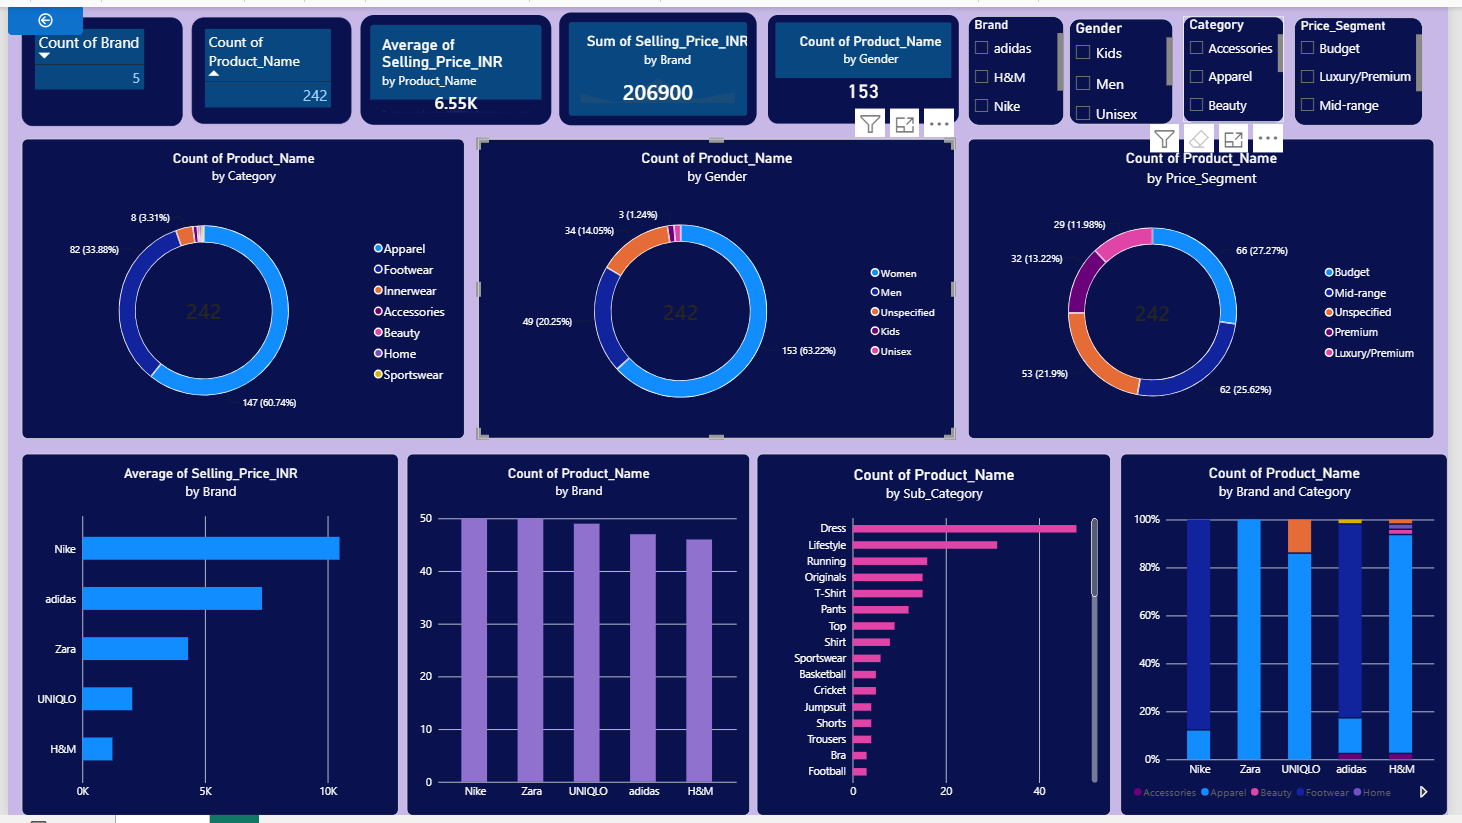

This screenshot's page, from the dashboard's own definition file:
{"tool":"powerbi","page":{"name":"Page 1","canvas":[1920,1080],"ordinal":0},"visuals":[{"type":"tableEx","fields":{"Values":["Week3_Clean_Product_Data_Final.Product_Name"]},"box":[245,16.2,212.8,141.3],"z":0},{"type":"tableEx","fields":{"Values":["Week3_Clean_Product_Data_Final.Brand"]},"box":[18,16.2,214.5,144.8],"z":1000},{"type":"kpi","fields":{"Indicator":["Avg(Week3_Clean_Product_Data_Final.Selling_Price_INR)"],"TrendLine":["Week3_Clean_Product_Data_Final.Product_Name"]},"box":[469.2,14,254.7,146.5],"z":2000},{"type":"actionButton","box":[0,0,100,40],"z":4000},{"type":"kpi","fields":{"Indicator":["CountNonNull(Week3_Clean_Product_Data_Final.Product_Name)"],"TrendLine":["Week3_Clean_Product_Data_Final.Gender"]},"box":[1013.4,14,254.7,144.8],"z":5000},{"type":"clusteredColumnChart","fields":{"Category":["Week3_Clean_Product_Data_Final.Brand"],"Y":["CountNonNull(Week3_Clean_Product_Data_Final.Product_Name)"]},"box":[531.3,598,457.5,482.7],"z":6000},{"type":"donutChart","fields":{"Category":["Week3_Clean_Product_Data_Final.Category"],"Y":["CountNonNull(Week3_Clean_Product_Data_Final.Product_Name)"]},"box":[18,178.3,590.8,399.8],"z":7000},{"type":"donutChart","fields":{"Category":["Week3_Clean_Product_Data_Final.Gender"],"Y":["CountNonNull(Week3_Clean_Product_Data_Final.Product_Name)"]},"box":[626.8,178.3,635.8,399.8],"z":8000},{"type":"clusteredBarChart","fields":{"Category":["Week3_Clean_Product_Data_Final.Brand"],"Y":["Avg(Week3_Clean_Product_Data_Final.Selling_Price_INR)"]},"box":[18,598,502.5,482.7],"z":9000},{"type":"donutChart","fields":{"Category":["Week3_Clean_Product_Data_Final.Price_Segment"],"Y":["CountNonNull(Week3_Clean_Product_Data_Final.Product_Name)"]},"box":[1280.6,178.3,621.4,399.8],"z":10000},{"type":"clusteredBarChart","fields":{"Category":["Week3_Clean_Product_Data_Final.Sub_Category"],"Y":["CountNonNull(Week3_Clean_Product_Data_Final.Product_Name)"]},"box":[997.8,598,471.9,482.7],"z":11000},{"type":"hundredPercentStackedColumnChart","fields":{"Category":["Week3_Clean_Product_Data_Final.Brand"],"Series":["Week3_Clean_Product_Data_Final.Category"],"Y":["CountNonNull(Week3_Clean_Product_Data_Final.Product_Name)"]},"box":[1484.1,598,435.9,482.7],"z":12000},{"type":"slicer","fields":{"Values":["Week3_Clean_Product_Data_Final.Brand"]},"box":[1280.6,14.4,127.9,145.9],"z":13000},{"type":"slicer","fields":{"Values":["Week3_Clean_Product_Data_Final.Gender"]},"box":[1415.7,18,138.7,140.5],"z":14000},{"type":"slicer","fields":{"Values":["Week3_Clean_Product_Data_Final.Category"]},"box":[1567,14.4,135.1,142.3],"z":14001},{"type":"slicer","fields":{"Values":["Week3_Clean_Product_Data_Final.Price_Segment"]},"box":[1714.7,16.2,171.1,144.1],"z":14002},{"type":"kpi","fields":{"Indicator":["Sum(Week3_Clean_Product_Data_Final.Selling_Price_INR)"],"TrendLine":["Week3_Clean_Product_Data_Final.Brand"]},"box":[734.3,10.5,263.4,150],"z":14003}]}

Visuals, with their boxes in screenshot pixels (x1, y1, x2, y2), scaled from the page's 1920x1080 canvas onto the 1462x823 screenshot:
tableEx - Week3_Clean_Product_Data_Final.Product_Name: 187/12/349/120
tableEx - Week3_Clean_Product_Data_Final.Brand: 14/12/177/123
kpi - Avg(Week3_Clean_Product_Data_Final.Selling_Price_INR) x Week3_Clean_Product_Data_Final.Product_Name: 357/11/551/122
actionButton: 0/0/76/30
kpi - CountNonNull(Week3_Clean_Product_Data_Final.Product_Name) x Week3_Clean_Product_Data_Final.Gender: 772/11/966/121
clusteredColumnChart - Week3_Clean_Product_Data_Final.Brand x CountNonNull(Week3_Clean_Product_Data_Final.Product_Name): 405/456/753/822
donutChart - Week3_Clean_Product_Data_Final.Category x CountNonNull(Week3_Clean_Product_Data_Final.Product_Name): 14/136/464/441
donutChart - Week3_Clean_Product_Data_Final.Gender x CountNonNull(Week3_Clean_Product_Data_Final.Product_Name): 477/136/961/441
clusteredBarChart - Week3_Clean_Product_Data_Final.Brand x Avg(Week3_Clean_Product_Data_Final.Selling_Price_INR): 14/456/396/822
donutChart - Week3_Clean_Product_Data_Final.Price_Segment x CountNonNull(Week3_Clean_Product_Data_Final.Product_Name): 975/136/1448/441
clusteredBarChart - Week3_Clean_Product_Data_Final.Sub_Category x CountNonNull(Week3_Clean_Product_Data_Final.Product_Name): 760/456/1119/822
hundredPercentStackedColumnChart - Week3_Clean_Product_Data_Final.Brand x Week3_Clean_Product_Data_Final.Category: 1130/456/1461/822
slicer - Week3_Clean_Product_Data_Final.Brand: 975/11/1073/122
slicer - Week3_Clean_Product_Data_Final.Gender: 1078/14/1184/121
slicer - Week3_Clean_Product_Data_Final.Category: 1193/11/1296/119
slicer - Week3_Clean_Product_Data_Final.Price_Segment: 1306/12/1436/122
kpi - Sum(Week3_Clean_Product_Data_Final.Selling_Price_INR) x Week3_Clean_Product_Data_Final.Brand: 559/8/760/122
